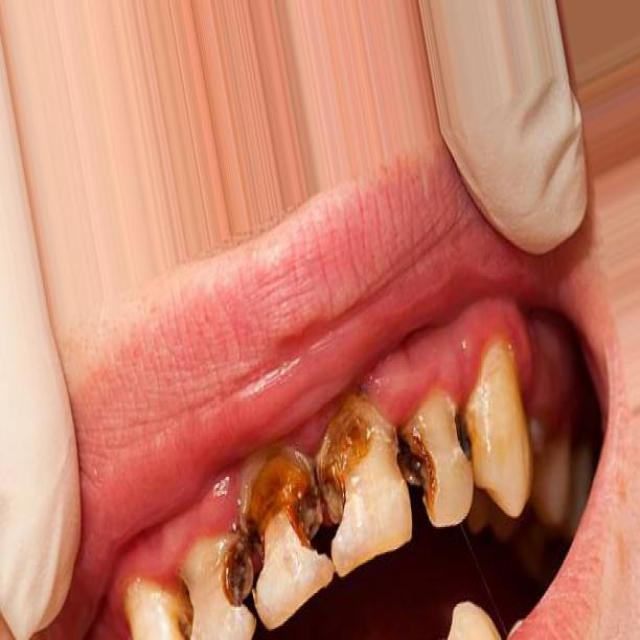caries: (218, 438, 322, 627), (316, 400, 383, 566), (388, 417, 442, 520), (449, 382, 496, 476), (159, 567, 210, 640)
